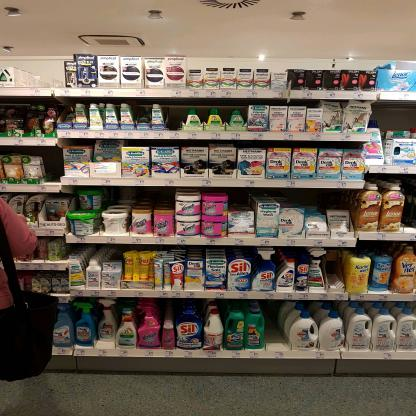Void: (102, 188, 174, 206), (277, 191, 351, 208), (266, 300, 288, 350), (17, 61, 62, 84), (375, 104, 411, 130), (43, 149, 63, 184), (326, 256, 343, 290), (233, 188, 251, 210)
